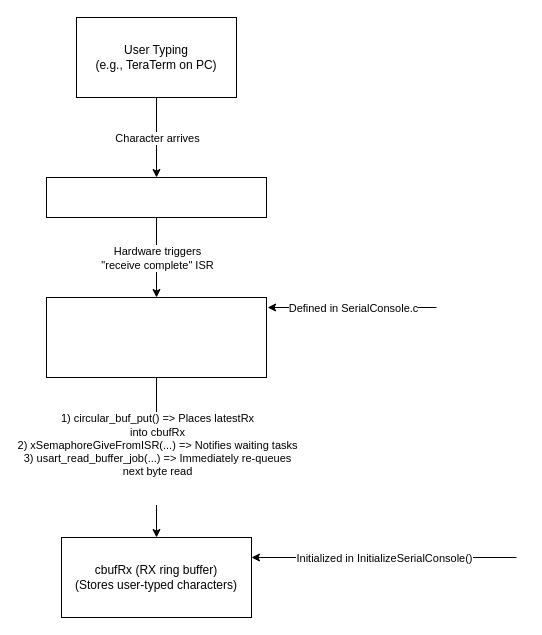
The diagram is 542 pixels wide and 635 high, and some of its shapes have lost their labels. Here are the shapes that lost their labels. From the top down, the centre of each, then its label:
[156,197]: SERCOM (UART) Hardware Buffer
[156,337]: usart_read_callback(...) (Called by driver when 1 byte is fully received)
